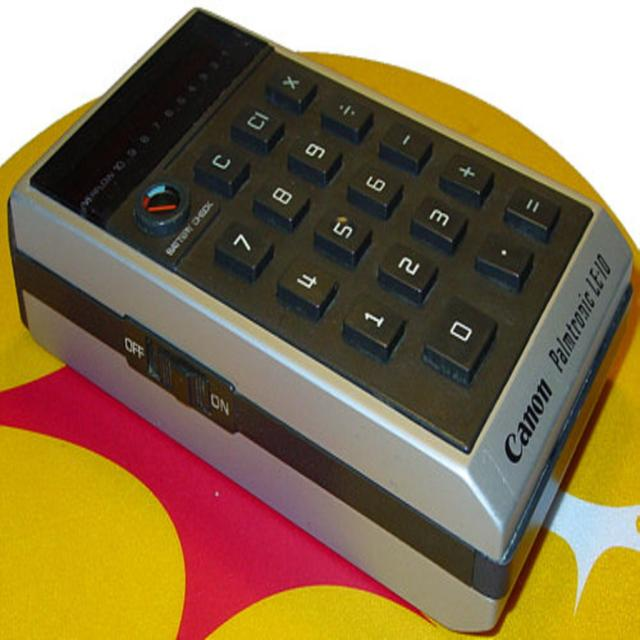Calculator: (5, 6, 639, 634)
